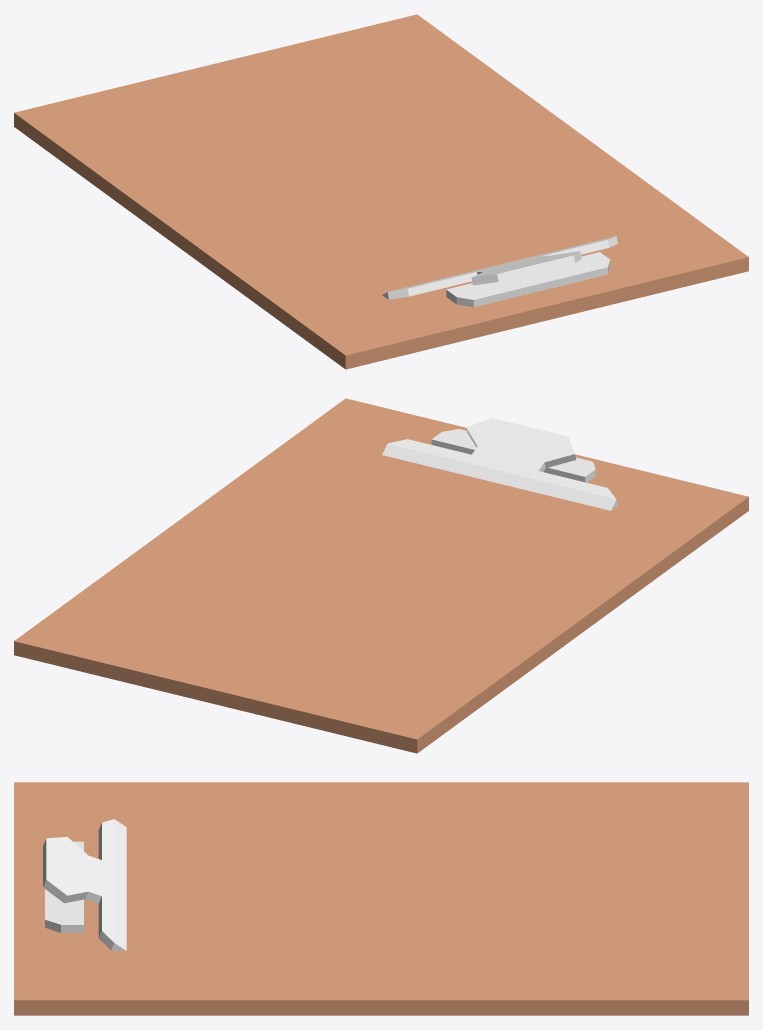
The model's file is ClipBoard.fbx.
3 views of the same model, one above another, from view 1: azimuth 30°, elevation 25°; view 2: azimuth 150°, elevation 25°; view 3: azimuth 270°, elevation 25° (orthographic). The views are drawn at different scales.
Parts seen in each view (by area): view 1: board; view 2: board; view 3: board.
Boxes of the visible parts, x1=… form: board: x1=14, y1=14, x2=748, y2=369; board: x1=14, y1=398, x2=748, y2=753; board: x1=14, y1=782, x2=748, y2=1015.
Size of the model in its own units: 34.68 by 3.65 by 49.42.
